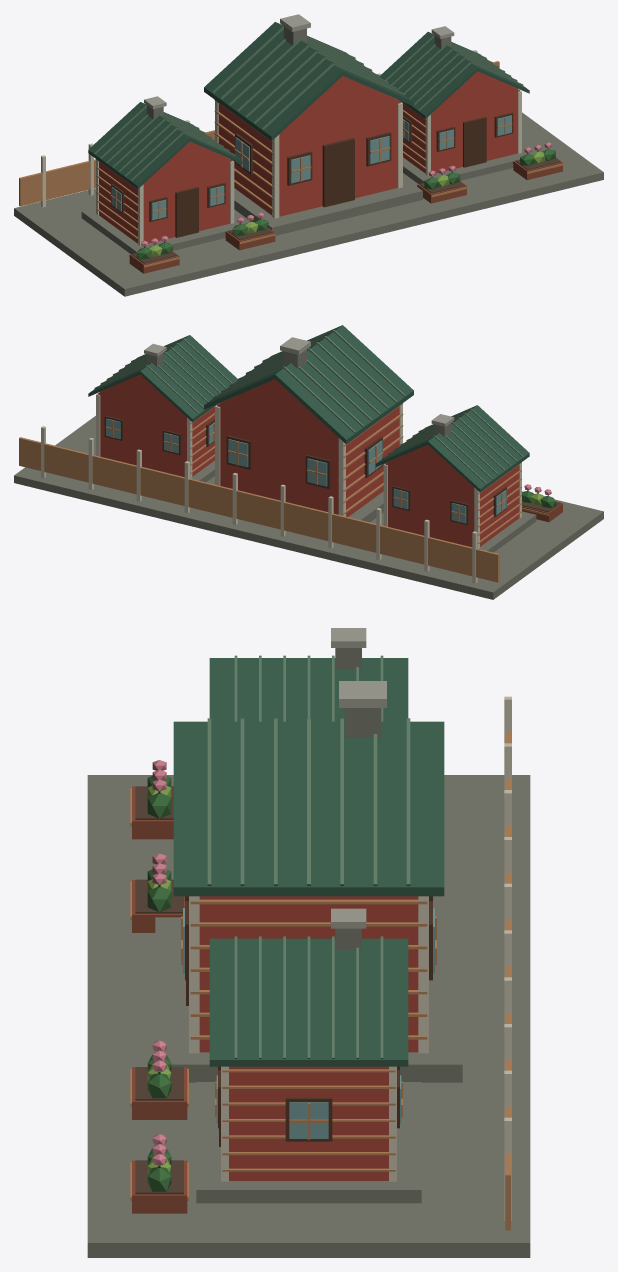
The model's file is Backyard_NeighborhoodBackdrop_Showcase.glb.
3 renders of one model, top to bottom at view 1: azimuth 30°, elevation 25°; view 2: azimuth 150°, elevation 25°; view 3: azimuth 270°, elevation 25°, orthographic. The views are drawn at different scales.
Visible parts, largest first — view 1: Backyard_NeighborhoodBackdrop_Showcase; view 2: Backyard_NeighborhoodBackdrop_Showcase; view 3: Backyard_NeighborhoodBackdrop_Showcase.
Part boxes in pixels (x1,y1,x2,y2): Backyard_NeighborhoodBackdrop_Showcase: (14,14,603,296); Backyard_NeighborhoodBackdrop_Showcase: (14,325,603,599); Backyard_NeighborhoodBackdrop_Showcase: (87,628,530,1257).
Bounding box in the file's own units: 20 × 6.66 × 8.
